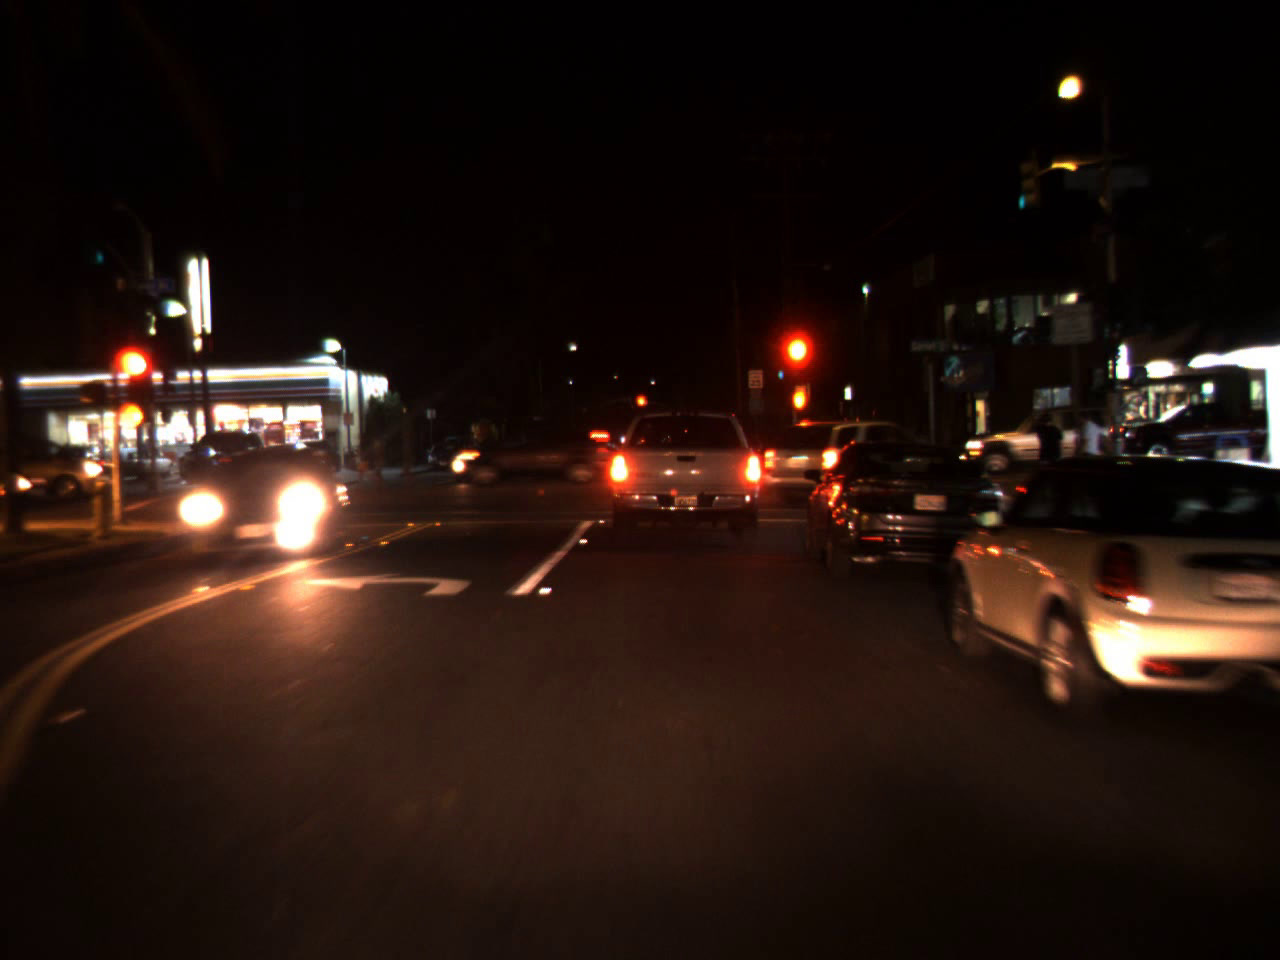stop: (115, 342, 158, 420), (778, 334, 812, 390), (634, 393, 649, 420)
